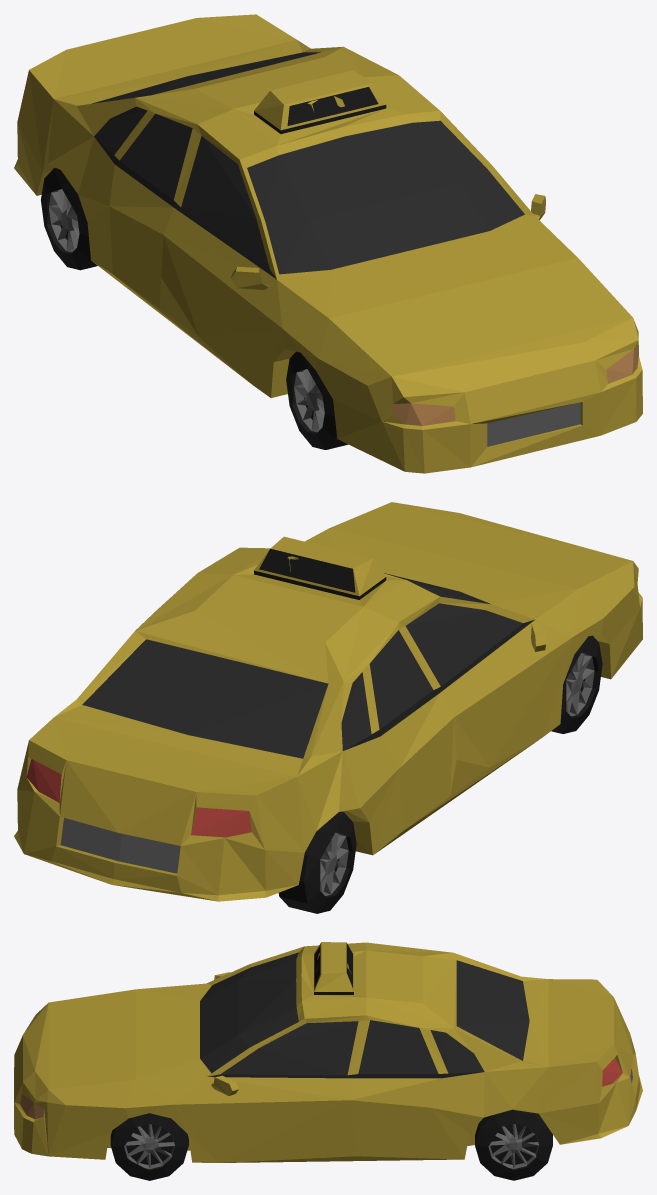
The model's file is car4.glb.
The picture shows the model from 3 angles, top to bottom: view 1: azimuth 30°, elevation 25°; view 2: azimuth 150°, elevation 25°; view 3: azimuth 270°, elevation 25°; orthographic projection. The views are drawn at different scales.
Parts seen in each view (by area): view 1: Taxi_Cube.009; view 2: Taxi_Cube.009; view 3: Taxi_Cube.009.
Part boxes in pixels (<box>): Taxi_Cube.009: <box>14,14,642,473</box>; Taxi_Cube.009: <box>14,502,642,913</box>; Taxi_Cube.009: <box>14,942,642,1180</box>.
Bounding box in the file's own units: 1.81 × 1.3 × 4.21.
